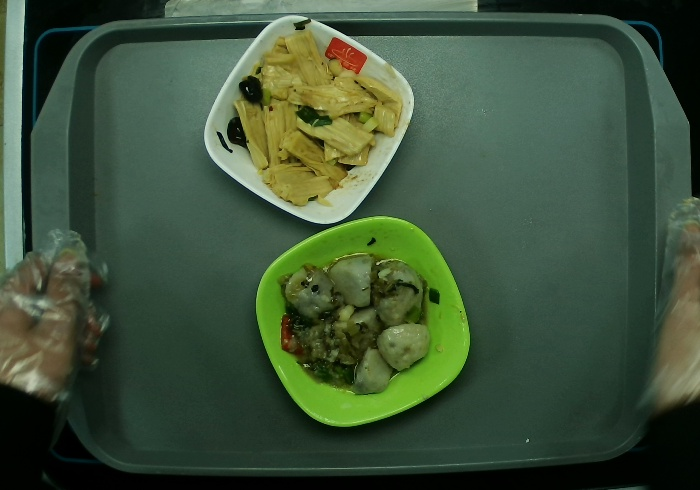SHKJ-Bai_Se_Xiao_Fang_Die: (201, 12, 417, 229)
SHKJ-Lv_Se_Cai_Die: (251, 214, 476, 431)
